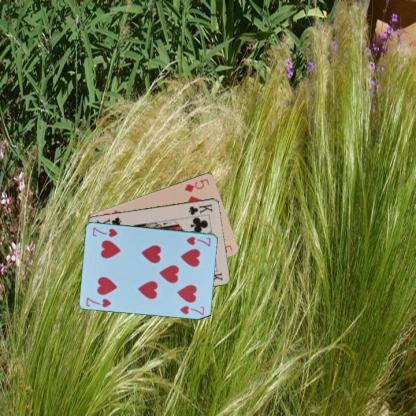5d: (182, 176, 210, 193)
7h: (84, 294, 112, 309), (184, 234, 212, 247)
Kc: (186, 201, 214, 216)
